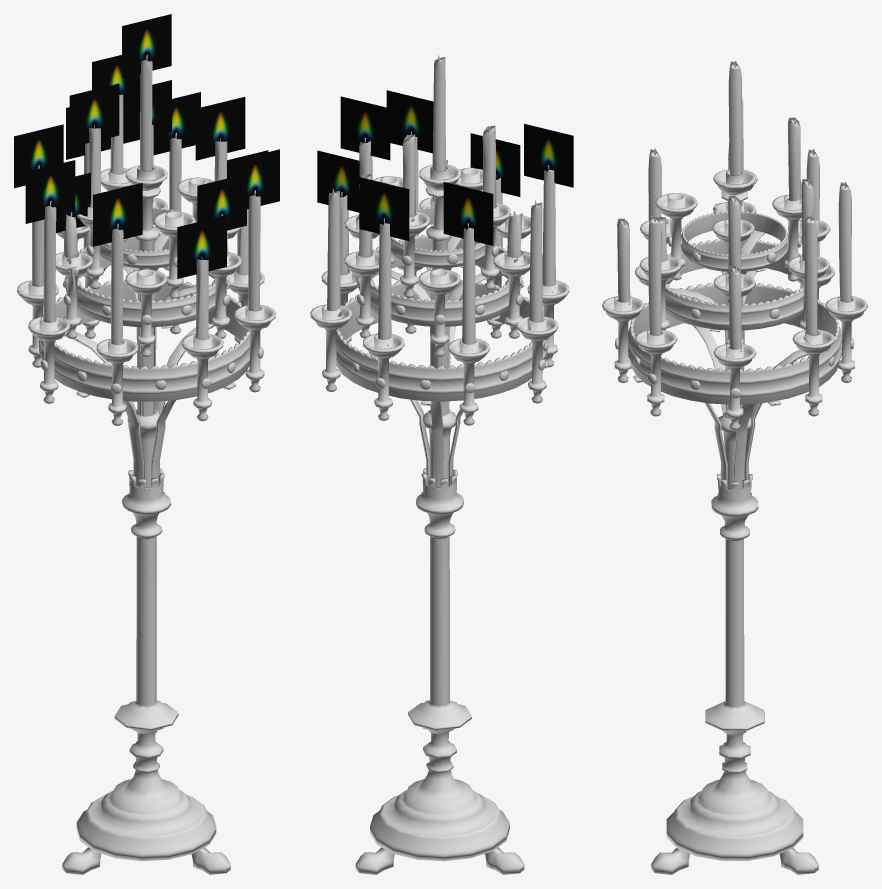
Rendered from Candelabra_01.fbx.
3 views of the same model, side by side, from view 1: azimuth 30°, elevation 25°; view 2: azimuth 150°, elevation 25°; view 3: azimuth 270°, elevation 25° (orthographic).
Parts seen in each view (by area): view 1: Candelabra_Base, CandleFlames_Grouped, Candle_Grouped; view 2: Candelabra_Base, CandleFlames_Grouped, Candle_Grouped; view 3: Candelabra_Base, Candle_Grouped.
Part boxes in pixels (<box>): Candelabra_Base: <box>17,165,275,874</box>; CandleFlames_Grouped: <box>14,14,279,278</box>; Candle_Grouped: <box>31,55,261,348</box>; Candelabra_Base: <box>310,164,569,874</box>; CandleFlames_Grouped: <box>317,90,573,245</box>; Candle_Grouped: <box>326,55,555,352</box>; Candelabra_Base: <box>602,169,867,874</box>; Candle_Grouped: <box>616,61,852,356</box>.
Size of the model in its own units: 97.79 by 320 by 93.24.
